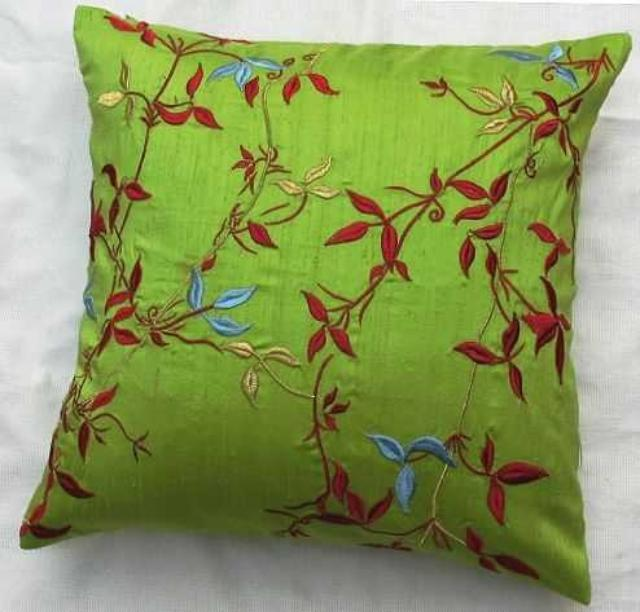pillow: (18, 2, 632, 606)
